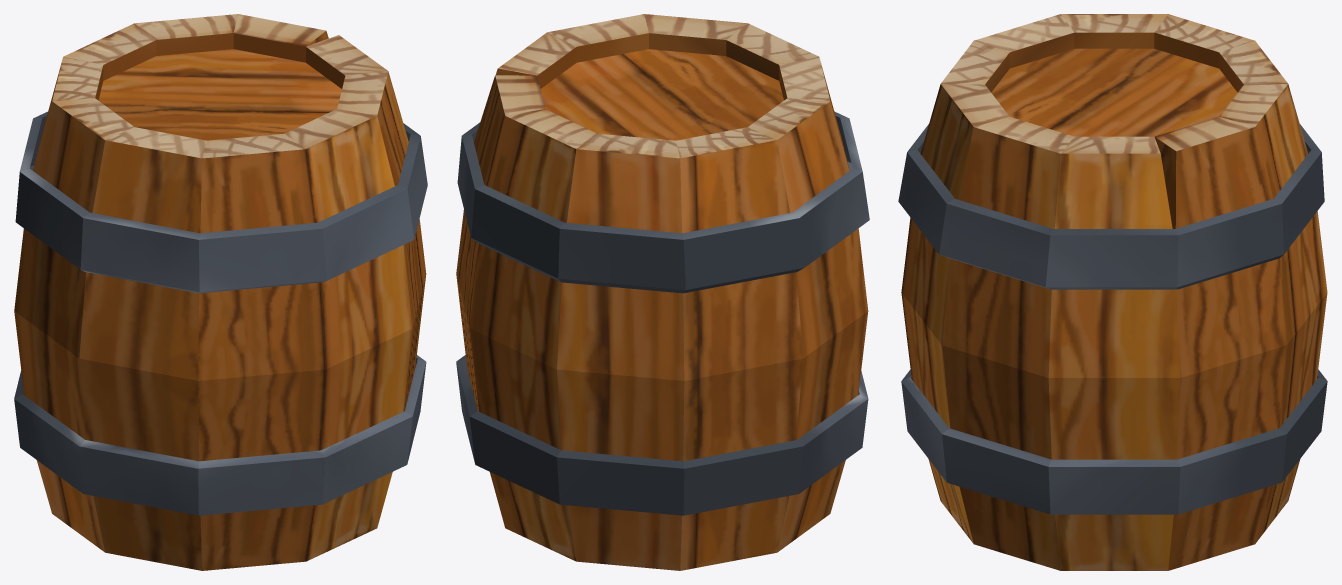
File: barrel_02.fbx
3 renders of one model, left to right at view 1: azimuth 30°, elevation 25°; view 2: azimuth 150°, elevation 25°; view 3: azimuth 270°, elevation 25°, orthographic.
Parts seen in each view (by area): view 1: barrel_02; view 2: barrel_02; view 3: barrel_02.
Part boxes in pixels (bbox=[...]): barrel_02: bbox=[14, 14, 427, 570]; barrel_02: bbox=[456, 14, 869, 570]; barrel_02: bbox=[898, 14, 1327, 570].
Size of the model in its own units: 27.64 by 31.38 by 29.26.
